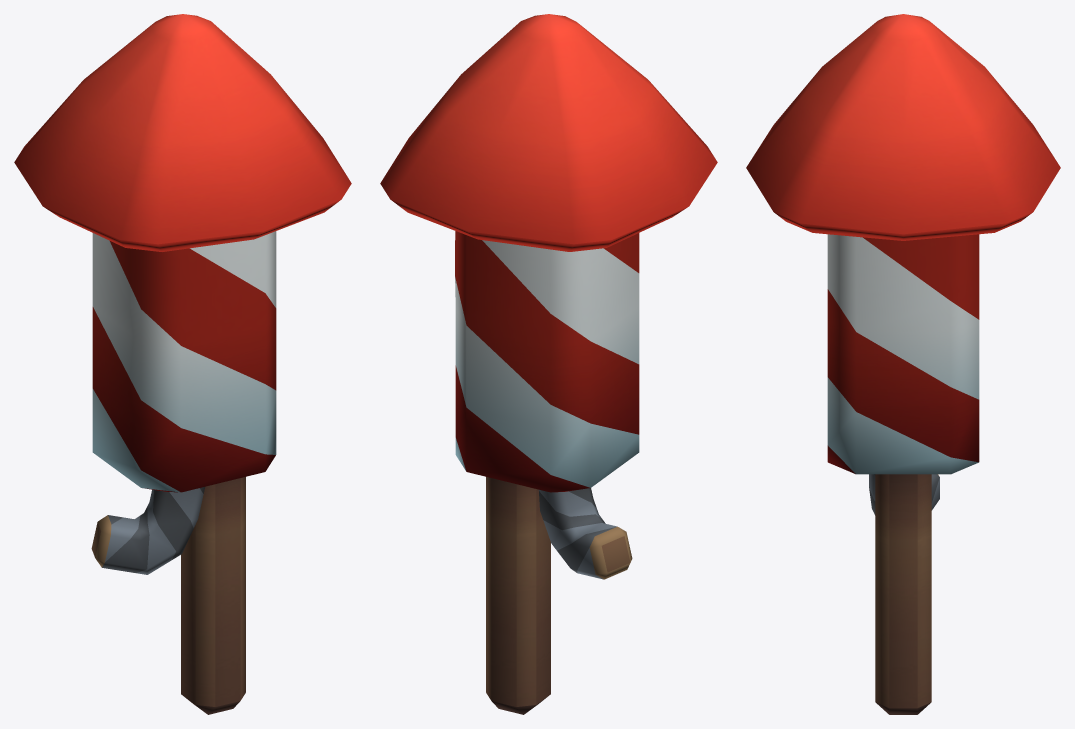
Rendered from rocket_newyear_red_white.fbx.
3 views of the same model, side by side, from view 1: azimuth 30°, elevation 25°; view 2: azimuth 150°, elevation 25°; view 3: azimuth 270°, elevation 25° (orthographic). The views are drawn at different scales.
Visible parts, largest first — view 1: rocket_newyear_red_white; view 2: rocket_newyear_red_white; view 3: rocket_newyear_red_white.
Boxes of the visible parts, bbox=[...] form: rocket_newyear_red_white: bbox=[14, 14, 351, 714]; rocket_newyear_red_white: bbox=[380, 14, 717, 714]; rocket_newyear_red_white: bbox=[746, 14, 1060, 714].
Size of the model in its own units: 55.78 by 133 by 55.78.
